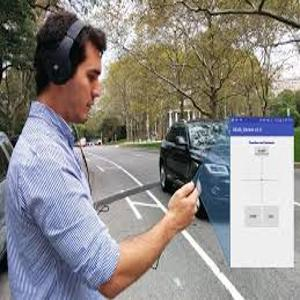Headphones: (47, 18, 91, 86)
